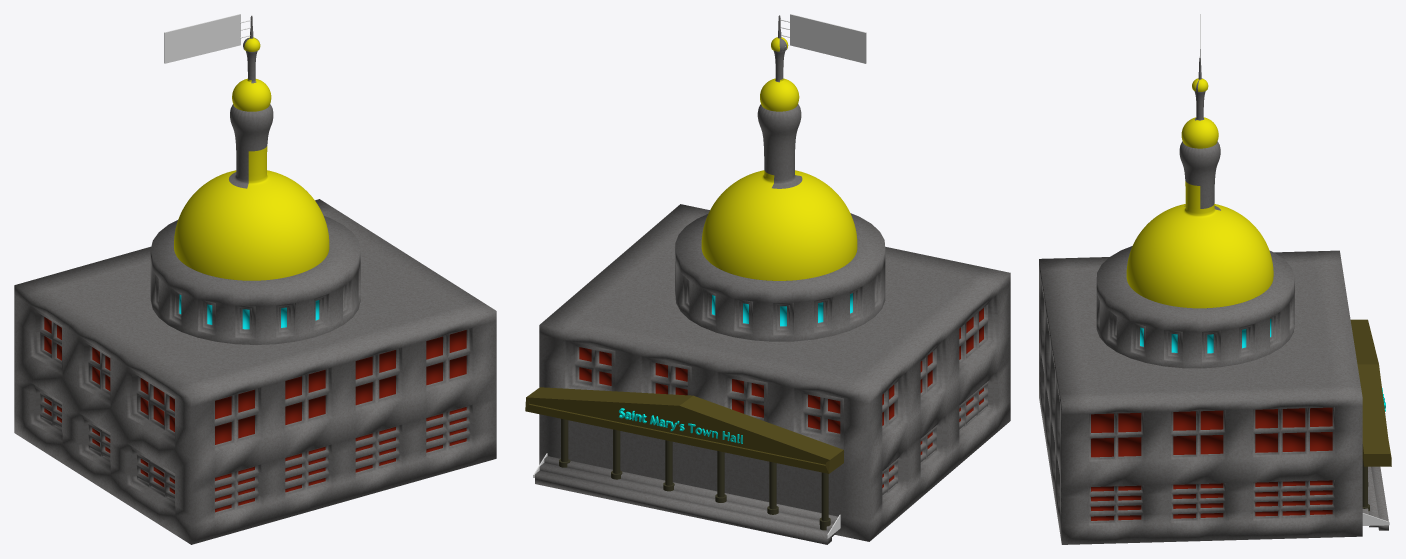
The model's file is SaintMary'sIslandTownHall.fbx.
3 renders of one model, left to right at view 1: azimuth 30°, elevation 25°; view 2: azimuth 150°, elevation 25°; view 3: azimuth 270°, elevation 25°, orthographic. The views are drawn at different scales.
Parts seen in each view (by area): view 1: StMary'sTownHall.001, Flag; view 2: StMary'sTownHall.001, Archway, ArchwayAdditions, Flag, SAINTMARY'STOWNHALL; view 3: StMary'sTownHall.001, Archway.
Boxes of the visible parts, left/top/right/bottom form: StMary'sTownHall.001: left=14, top=15, right=496, bottom=544; Flag: left=164, top=14, right=240, bottom=63; StMary'sTownHall.001: left=535, top=15, right=1010, bottom=544; Archway: left=525, top=387, right=843, bottom=473; ArchwayAdditions: left=559, top=418, right=830, bottom=530; Flag: left=790, top=14, right=866, bottom=63; SAINTMARY'STOWNHALL: left=619, top=408, right=742, bottom=443; StMary'sTownHall.001: left=1039, top=57, right=1388, bottom=544; Archway: left=1350, top=319, right=1391, bottom=466.
Size of the model in its own units: 7382 by 9156 by 7109.
